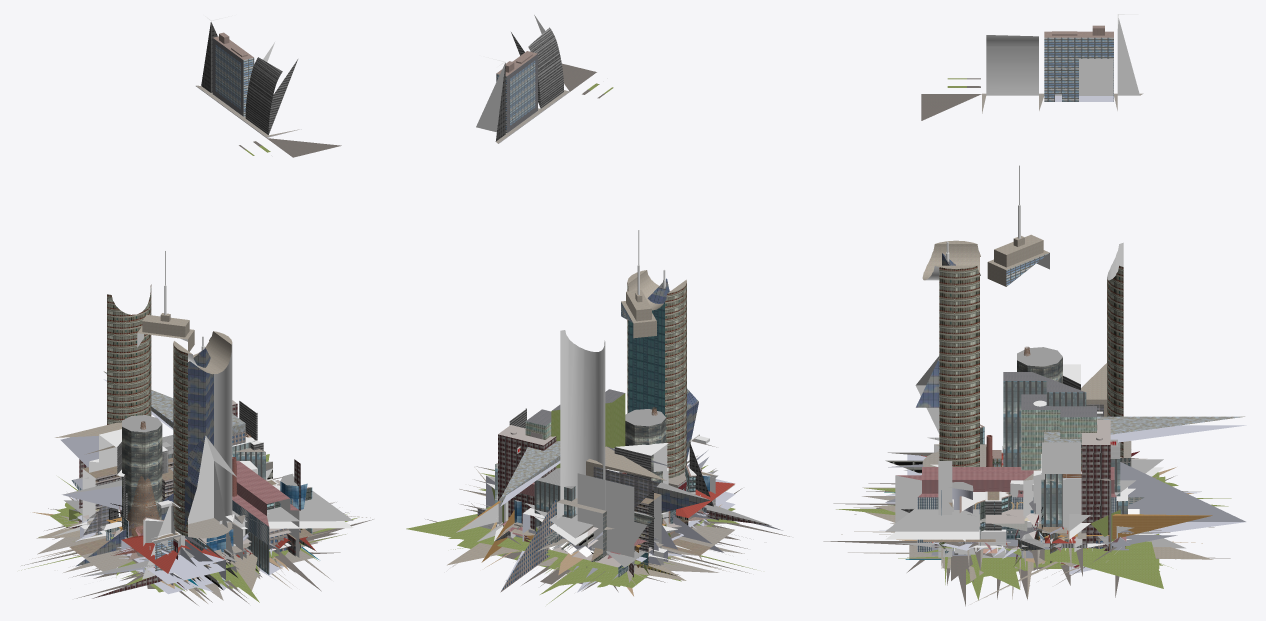
Rendered from kota.glb.
3 renders of one model, left to right at view 1: azimuth 30°, elevation 25°; view 2: azimuth 150°, elevation 25°; view 3: azimuth 270°, elevation 25°, orthographic. The views are drawn at different scales.
Visible parts, largest first — view 1: kota_14, kota_08, kota_36, kota_15, kota_37, kota_34, kota_22, kota_16, kota_09, kota_17, kota_11, kota_07 (+7 smaller); view 2: kota_08, kota_14, kota_36, kota_34, kota_22, kota_19, kota_35, kota_15, kota_16, kota_09, kota_01, kota_40 (+6 smaller); view 3: kota_08, kota_36, kota_35, kota_15, kota_14, kota_01, kota_37, kota_19, kota_09, kota_17, kota_07, kota_34 (+11 smaller).
Boxes of the visible parts, left/top/right/bottom form: kota_14: left=62, top=284, right=265, bottom=605; kota_08: left=89, top=331, right=312, bottom=588; kota_36: left=196, top=15, right=341, bottom=157; kota_15: left=82, top=415, right=288, bottom=572; kota_37: left=109, top=461, right=299, bottom=579; kota_34: left=79, top=446, right=314, bottom=594; kota_22: left=55, top=422, right=349, bottom=571; kota_16: left=37, top=435, right=293, bottom=578; kota_09: left=36, top=250, right=373, bottom=557; kota_17: left=38, top=491, right=353, bottom=590; kota_11: left=64, top=473, right=317, bottom=598; kota_07: left=127, top=401, right=340, bottom=554; kota_08: left=477, top=270, right=722, bottom=553; kota_14: left=495, top=269, right=742, bottom=578; kota_36: left=476, top=15, right=613, bottom=143; kota_34: left=452, top=448, right=735, bottom=585; kota_22: left=439, top=446, right=734, bottom=565; kota_19: left=447, top=425, right=628, bottom=583; kota_35: left=500, top=428, right=606, bottom=592; kota_15: left=471, top=409, right=707, bottom=566; kota_16: left=425, top=482, right=747, bottom=572; kota_09: left=474, top=230, right=717, bottom=580; kota_01: left=491, top=389, right=625, bottom=584; kota_40: left=524, top=468, right=576, bottom=537; kota_08: left=841, top=240, right=1177, bottom=566; kota_36: left=921, top=14, right=1143, bottom=120; kota_35: left=823, top=416, right=1246, bottom=570; kota_15: left=971, top=347, right=1096, bottom=589; kota_14: left=862, top=241, right=1123, bottom=557; kota_01: left=898, top=372, right=1144, bottom=574; kota_37: left=879, top=467, right=1116, bottom=551; kota_19: left=1081, top=418, right=1213, bottom=559; kota_09: left=927, top=165, right=1064, bottom=606; kota_17: left=885, top=464, right=1103, bottom=564; kota_07: left=907, top=346, right=1081, bottom=599; kota_34: left=907, top=411, right=1230, bottom=559.
Size of what is drawn, in the model's own units: 69.76 by 96.57 by 69.72.
Materials: 77 (62 with a texture image).
